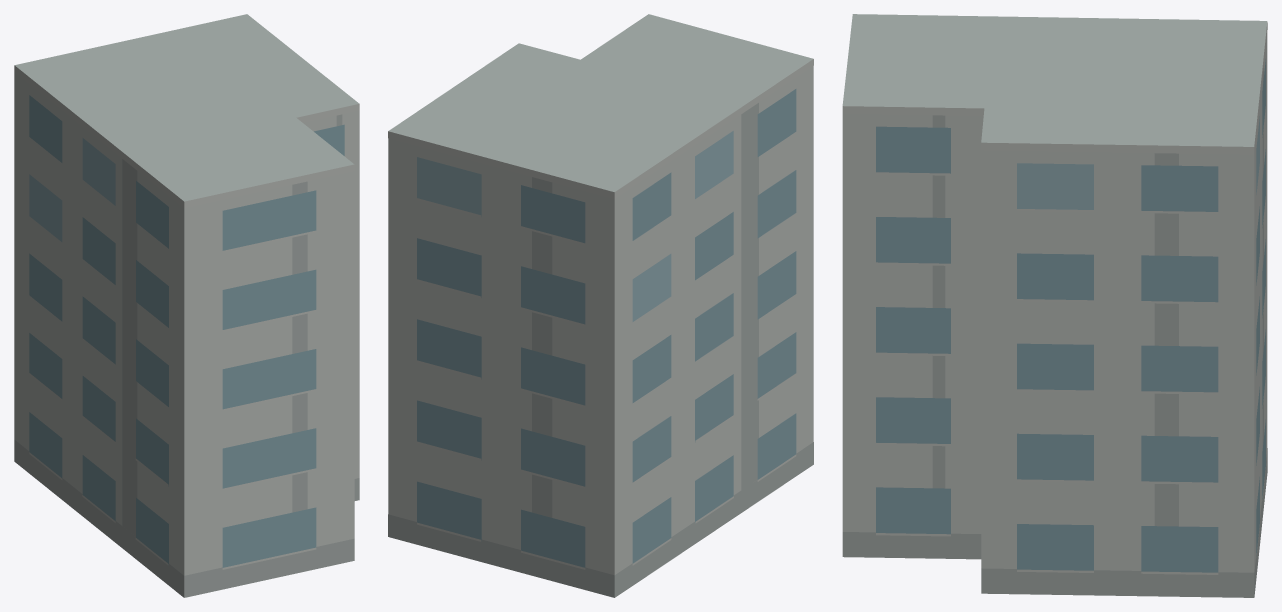
File: survey-upis-32840613.glb
3 views of the same model, side by side, from view 1: azimuth 30°, elevation 25°; view 2: azimuth 150°, elevation 25°; view 3: azimuth 270°, elevation 25° (orthographic). The views are drawn at different scales.
Visible parts, largest first — view 1: survey-upis-32840613.tmp; view 2: survey-upis-32840613.tmp; view 3: survey-upis-32840613.tmp.
Part boxes in pixels (x1,y1,x2,y2): survey-upis-32840613.tmp: (14,14,359,597); survey-upis-32840613.tmp: (388,14,813,597); survey-upis-32840613.tmp: (842,14,1267,597).
Bounding box in the file's own units: 8.99 × 14.2 × 12.14.
